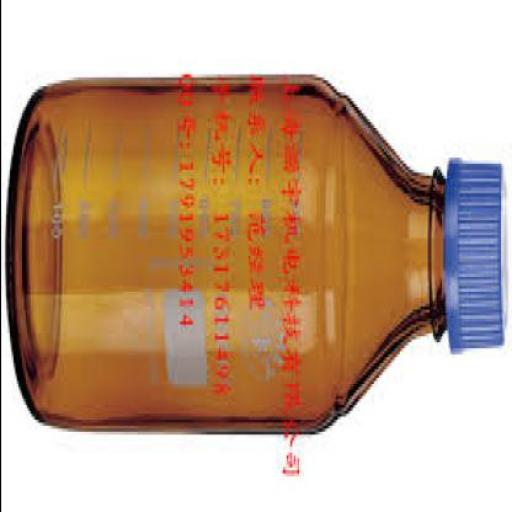glass: (6, 74, 444, 429)
plastic: (444, 155, 507, 348)
